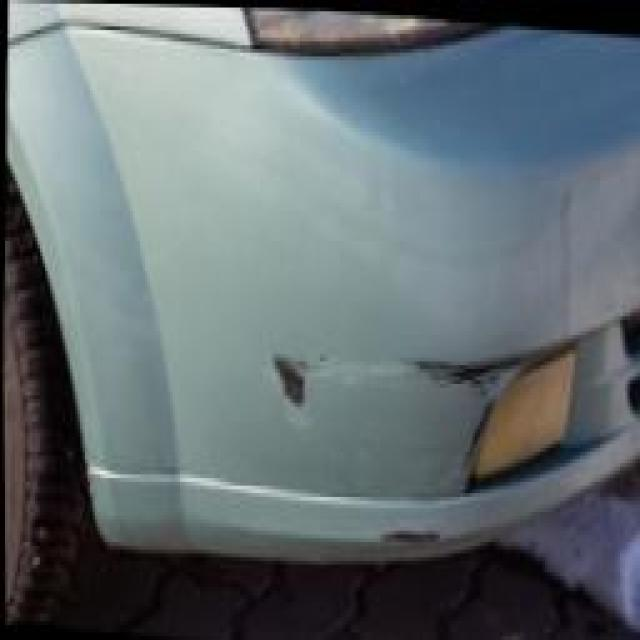Bumper: (242, 297, 565, 569)
